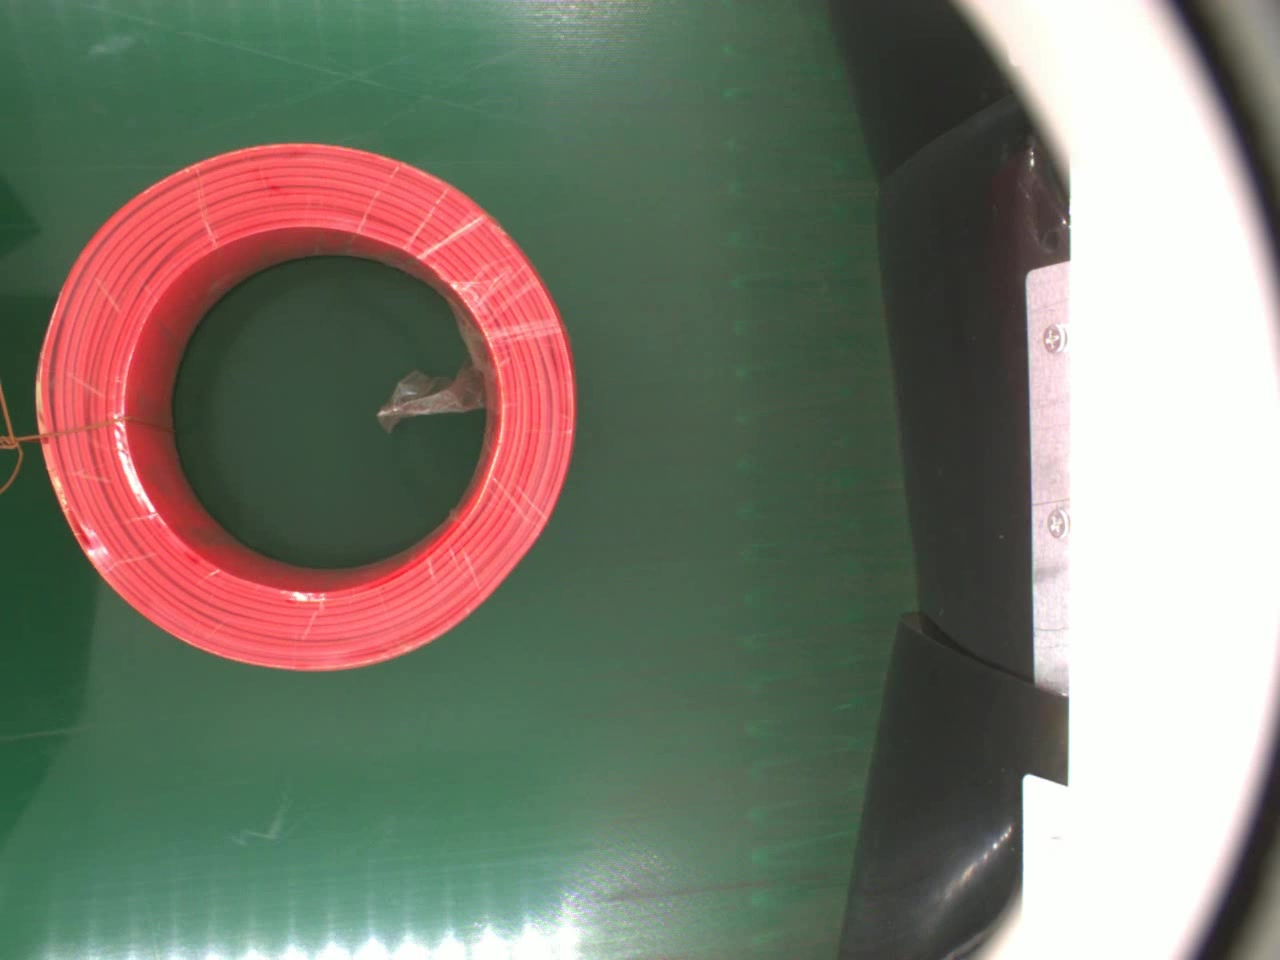red: (32, 142, 581, 682)
